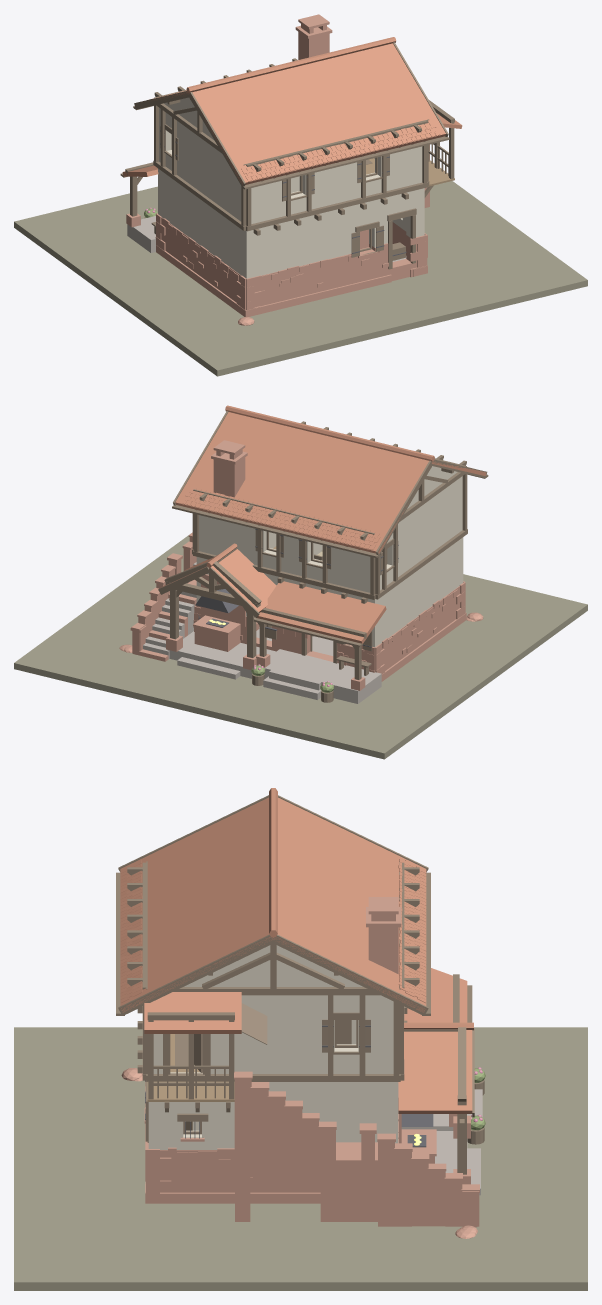
Rendered from dom.glb.
The picture shows the model from 3 angles, top to bottom: view 1: azimuth 30°, elevation 25°; view 2: azimuth 150°, elevation 25°; view 3: azimuth 270°, elevation 25°; orthographic projection. The views are drawn at different scales.
Parts seen in each view (by area): view 1: zemlya__m00, krysha__m03, obolochka__m01, obolochka__m00, obolochka__m02, krysha__m02, krysha__m00, obolochka__m05, obolochka__m11; view 2: zemlya__m00, krysha__m03, obolochka__m01, obolochka__m02, obolochka__m00, obolochka__m11, obolochka__m03, krysha__m02, mebel__m00, krysha__m00, obolochka__m05, mebel__m06 (+1 smaller); view 3: zemlya__m00, krysha__m03, obolochka__m00, obolochka__m01, obolochka__m02, obolochka__m03, krysha__m02, krysha__m00, obolochka__m11, obolochka__m05, obolochka__m09, mebel__m00.
Boxes of the visible parts, x1,y1,x2,y2 form: zemlya__m00: (14, 181, 587, 376); krysha__m03: (141, 37, 445, 185); obolochka__m01: (158, 97, 424, 278); obolochka__m00: (126, 145, 429, 316); obolochka__m02: (120, 58, 454, 269); krysha__m02: (133, 42, 449, 189); krysha__m00: (295, 14, 332, 59); obolochka__m05: (160, 126, 389, 257); obolochka__m11: (127, 216, 155, 252); zemlya__m00: (14, 535, 587, 759); krysha__m03: (175, 405, 486, 553); obolochka__m01: (196, 466, 463, 647); obolochka__m02: (158, 421, 467, 679); obolochka__m00: (130, 532, 466, 690); obolochka__m11: (143, 562, 381, 703); obolochka__m03: (162, 543, 386, 643); krysha__m02: (172, 411, 488, 558); mebel__m00: (193, 574, 259, 651); krysha__m00: (211, 440, 247, 497); obolochka__m05: (255, 530, 398, 651); mebel__m06: (195, 589, 238, 627); zemlya__m00: (14, 1027, 587, 1290); krysha__m03: (120, 788, 426, 1012); obolochka__m00: (144, 1071, 479, 1227); obolochka__m01: (148, 945, 398, 1149); obolochka__m02: (127, 861, 474, 1174); obolochka__m03: (144, 968, 473, 1113); krysha__m02: (116, 795, 430, 1015); krysha__m00: (366, 897, 401, 974); obolochka__m11: (401, 1089, 482, 1195); obolochka__m05: (145, 1003, 370, 1090); obolochka__m09: (147, 1081, 234, 1101); mebel__m00: (399, 1114, 436, 1163).
Size of the model in its own units: 17.75 by 9.44 by 16.88.
